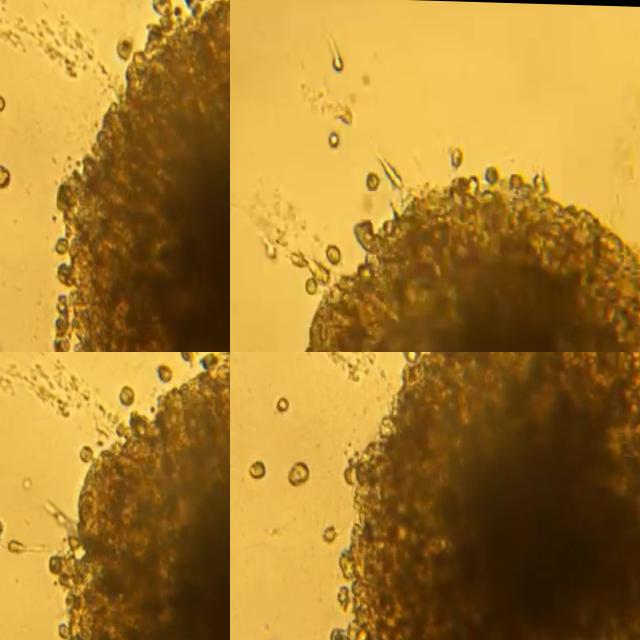cell: (307, 255, 333, 281), (380, 160, 404, 187), (328, 34, 345, 69), (285, 461, 308, 483), (259, 233, 279, 258), (246, 457, 265, 480), (118, 383, 136, 406), (365, 168, 382, 191), (287, 252, 310, 267), (325, 246, 343, 265), (115, 38, 131, 59), (323, 522, 339, 542), (155, 362, 172, 380), (4, 539, 27, 551), (449, 143, 462, 164), (328, 127, 339, 148), (0, 164, 10, 185), (305, 278, 316, 294), (275, 398, 288, 411), (179, 352, 192, 361), (0, 93, 4, 110)
tumor_mass: (329, 352, 640, 640), (305, 161, 640, 352), (51, 0, 230, 352), (42, 352, 230, 640)
